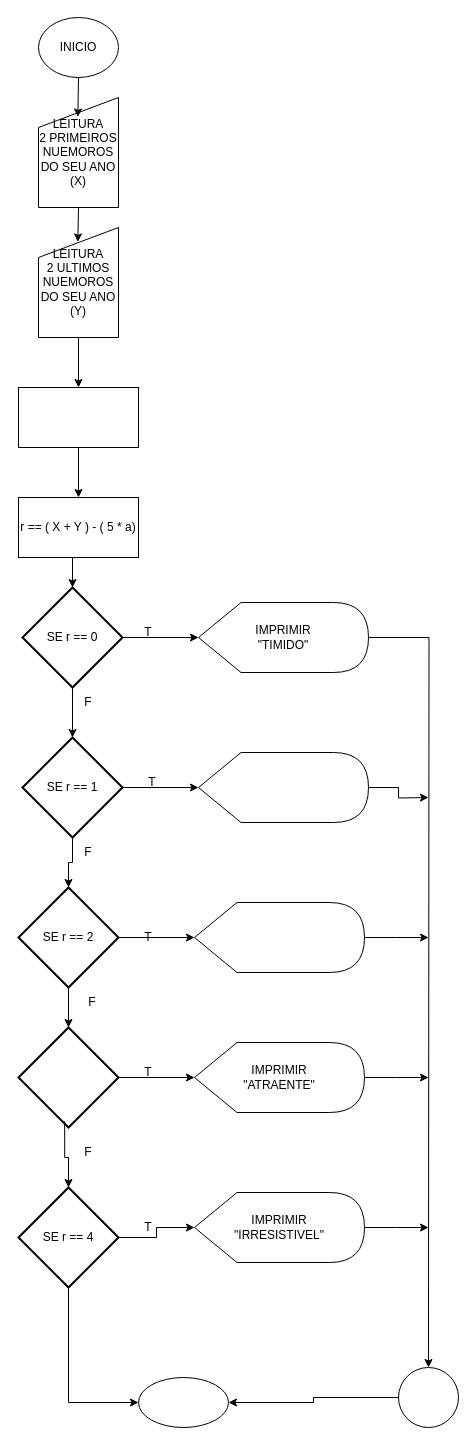
Image size: 476x1445. Some labels were removed from this diagram. Each missing label, with the centre of its shape:
a == ( X + Y ) / 5: point 78,417
FIM: point 183,1402
IMPRIMIR "PAQUERADOR": point 279,937
IMPRIMIR "SONHADOR": point 283,787
SE r == 3: point 68,1077
